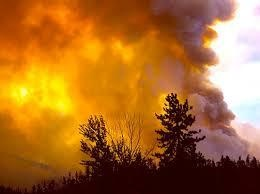fire: (0, 66, 73, 114)
